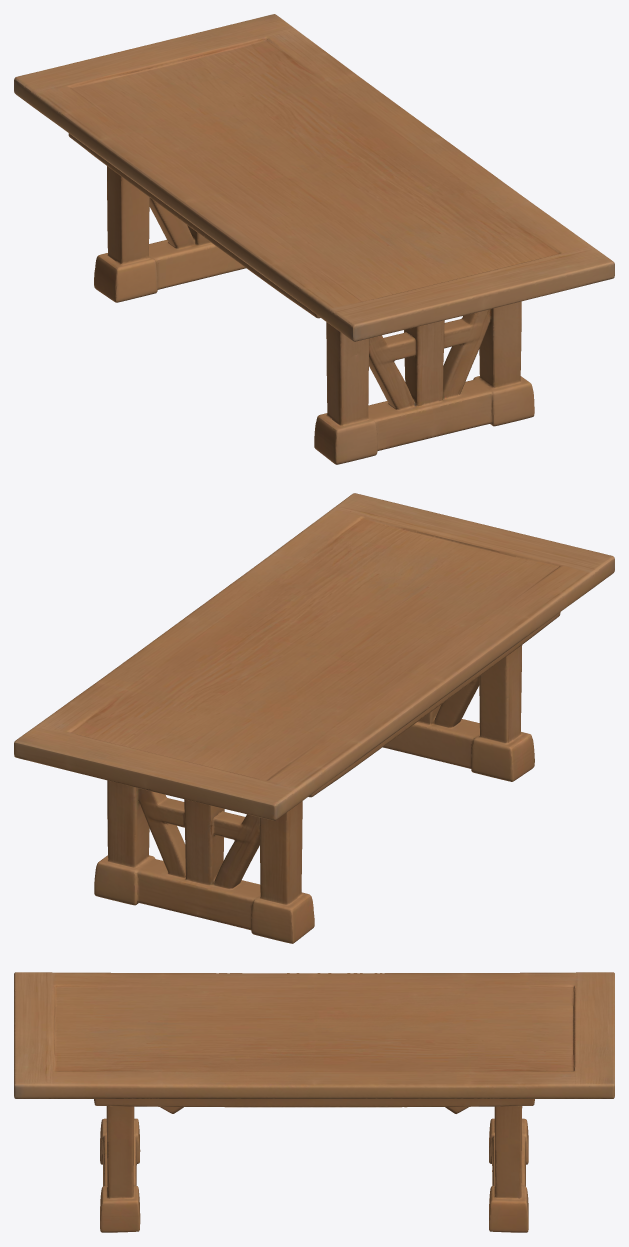
File: detailed_realistic_model_grandoaktable_15.glb
3 views of the same model, one above another, from view 1: azimuth 30°, elevation 25°; view 2: azimuth 150°, elevation 25°; view 3: azimuth 270°, elevation 25° (orthographic). The views are drawn at different scales.
Parts seen in each view (by area): view 1: tripo_node_6064e08f-53dc-4f7b-be18-bc102dad0381; view 2: tripo_node_6064e08f-53dc-4f7b-be18-bc102dad0381; view 3: tripo_node_6064e08f-53dc-4f7b-be18-bc102dad0381.
Part boxes in pixels (<box>): tripo_node_6064e08f-53dc-4f7b-be18-bc102dad0381: <box>14,14,614,464</box>; tripo_node_6064e08f-53dc-4f7b-be18-bc102dad0381: <box>14,493,614,943</box>; tripo_node_6064e08f-53dc-4f7b-be18-bc102dad0381: <box>14,972,614,1232</box>.
Size of the model in its own units: 0.4471 by 0.2987 by 1.
Materials: 1 (1 with a texture image).
